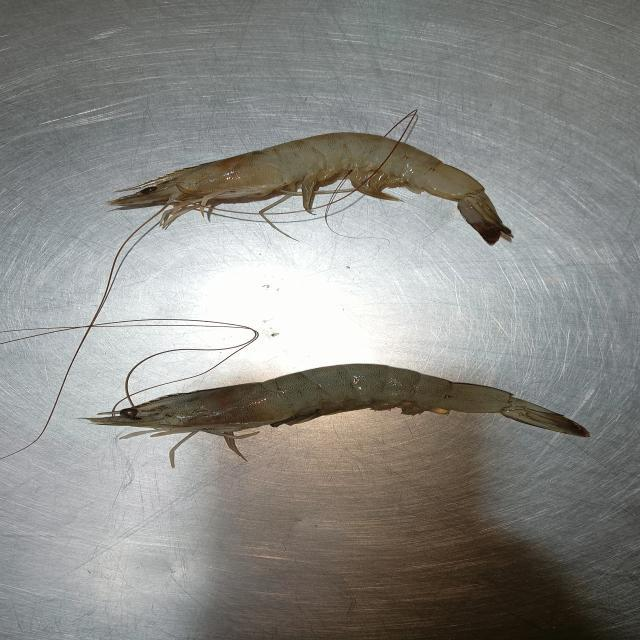shrimp: (108, 133, 511, 243), (99, 363, 587, 435)
